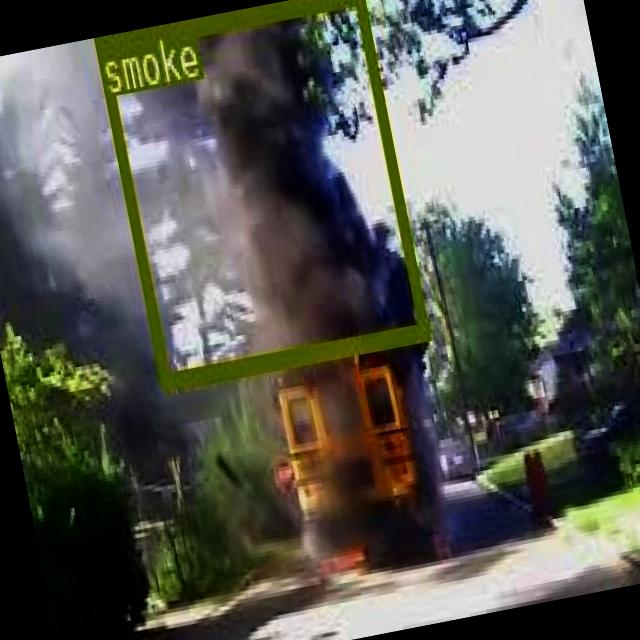smoke: (92, 0, 427, 385)
